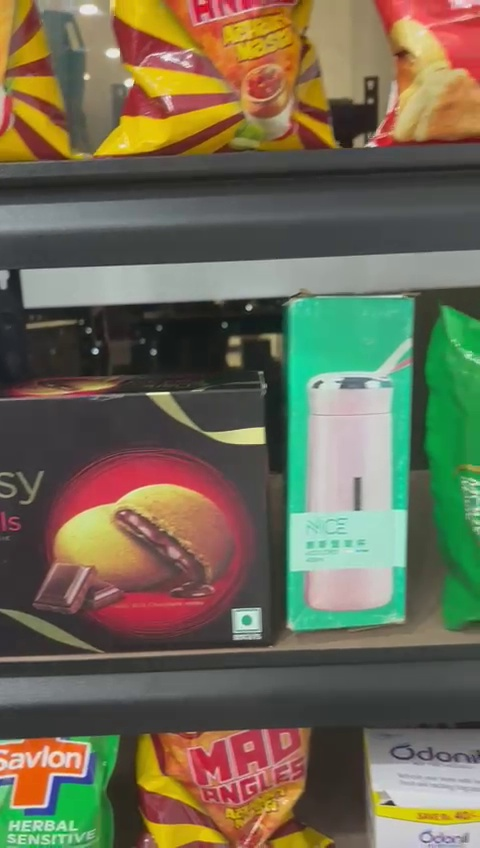Bottle: (290, 298, 415, 631)
